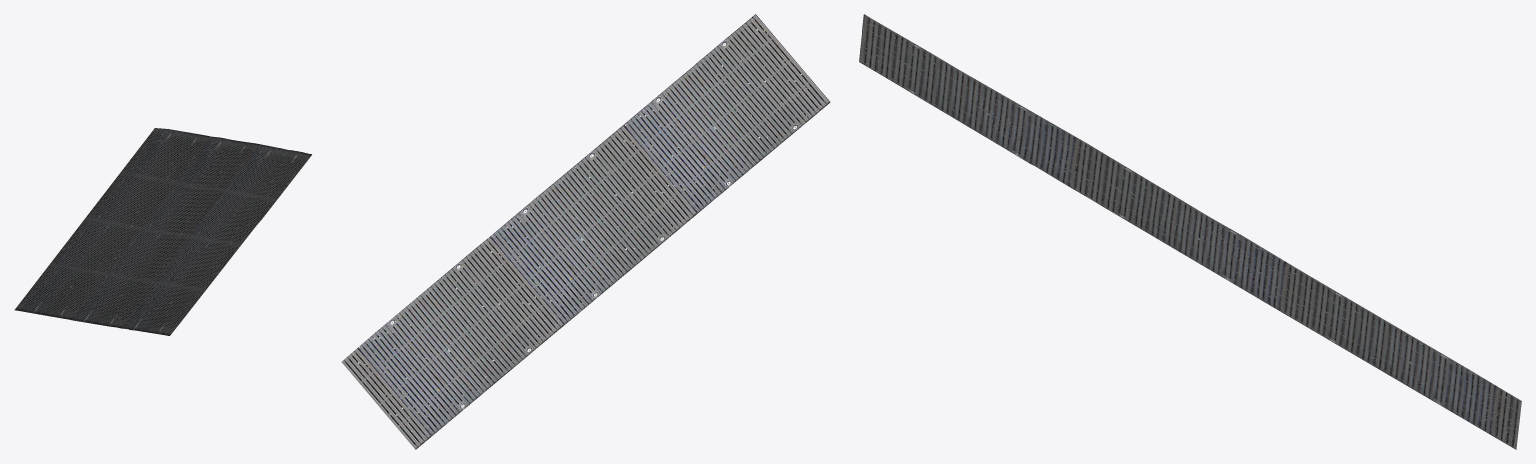
File: test_drain.glb
The picture shows the model from 3 angles, left to right: view 1: azimuth 30°, elevation 25°; view 2: azimuth 150°, elevation 25°; view 3: azimuth 270°, elevation 25°; orthographic projection. The views are drawn at different scales.
Size of the model in its own units: 2.97 by 3.3 by 5.3.
1 material, 1 textured.
